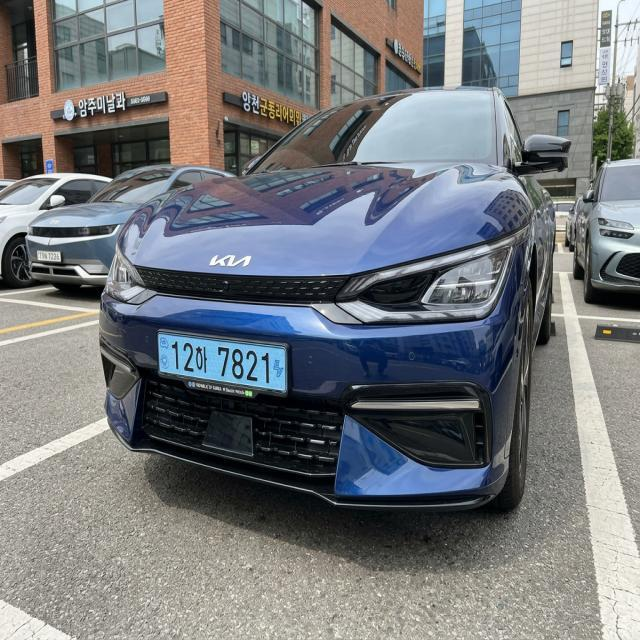car: (153, 320, 299, 412)
carev: (157, 329, 172, 382), (271, 350, 286, 395)
